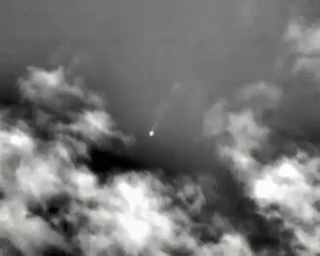AIRPLANE: (147, 128, 157, 139)
